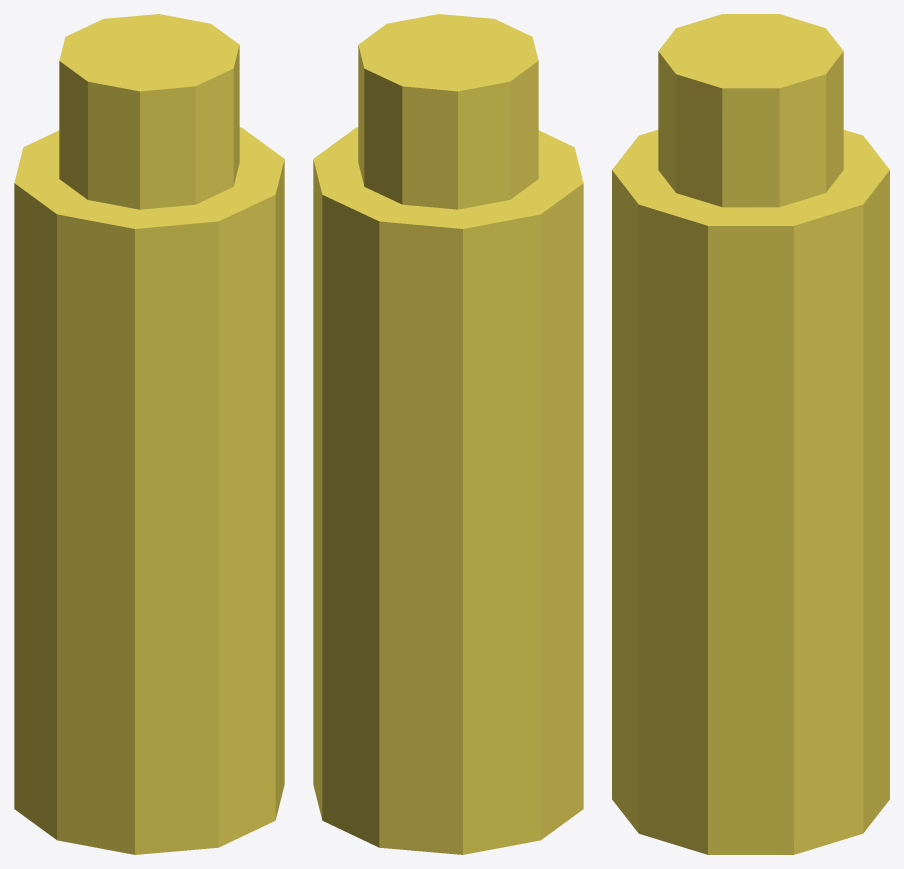
The model's file is fire_hydrant.glb.
The picture shows the model from 3 angles, left to right: view 1: azimuth 30°, elevation 25°; view 2: azimuth 150°, elevation 25°; view 3: azimuth 270°, elevation 25°; orthographic projection.
Visible parts, largest first — view 1: hydrant, hydrant_cap; view 2: hydrant, hydrant_cap; view 3: hydrant, hydrant_cap.
Part boxes in pixels (left/top/right/bottom): hydrant: left=14, top=127, right=284, bottom=854; hydrant_cap: left=59, top=14, right=239, bottom=209; hydrant: left=313, top=127, right=583, bottom=854; hydrant_cap: left=358, top=14, right=538, bottom=209; hydrant: left=612, top=130, right=889, bottom=854; hydrant_cap: left=658, top=14, right=843, bottom=207.
Size of the model in its own units: 0.3423 by 1.07 by 0.3604.
